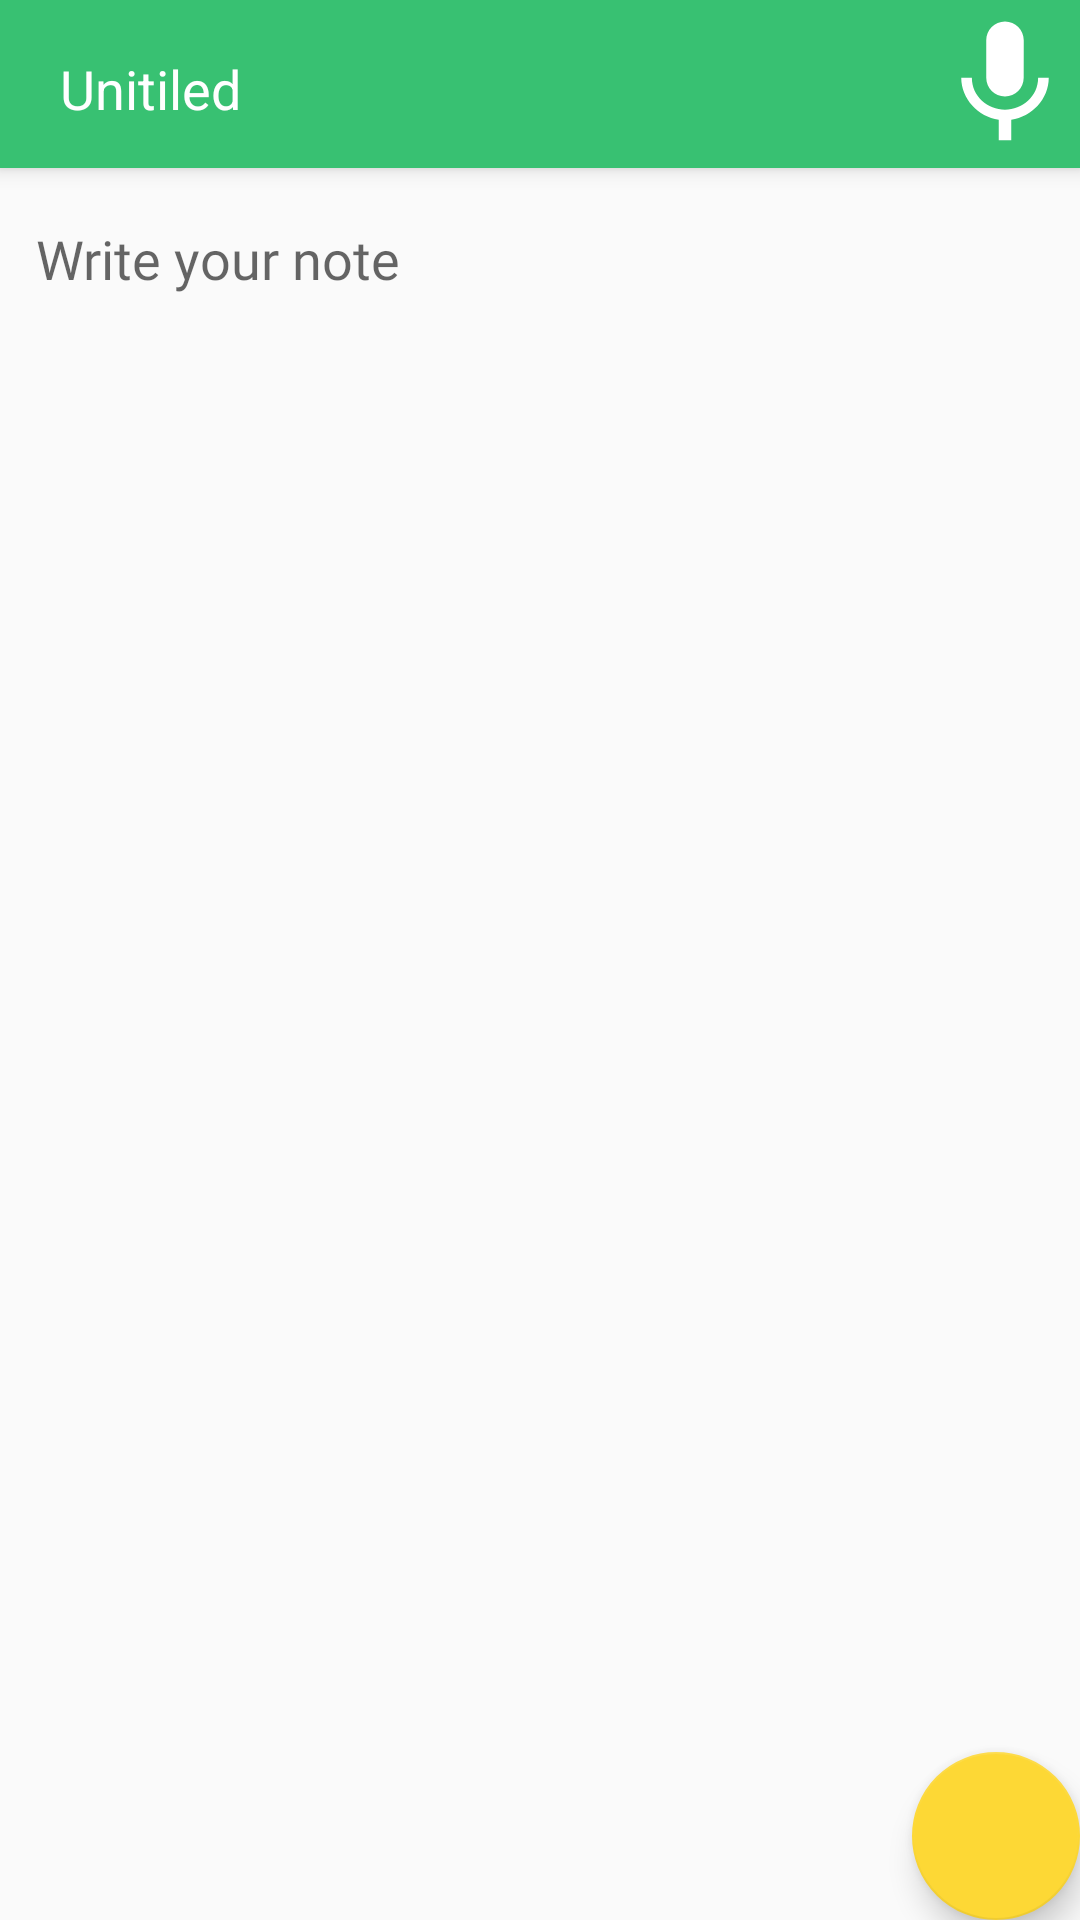

Locate icon controls on the screen. Image size 1080px x 1920px, boxes as detection(x1, y1, x2, y2).
mic: detection(961, 21, 1049, 141)
